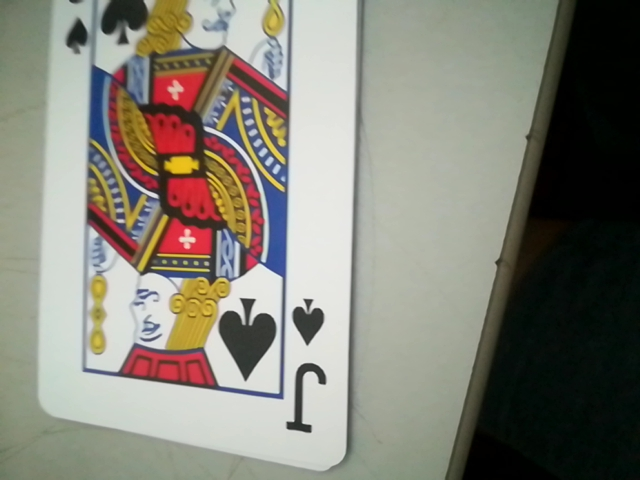ht j: (280, 291, 335, 439)
